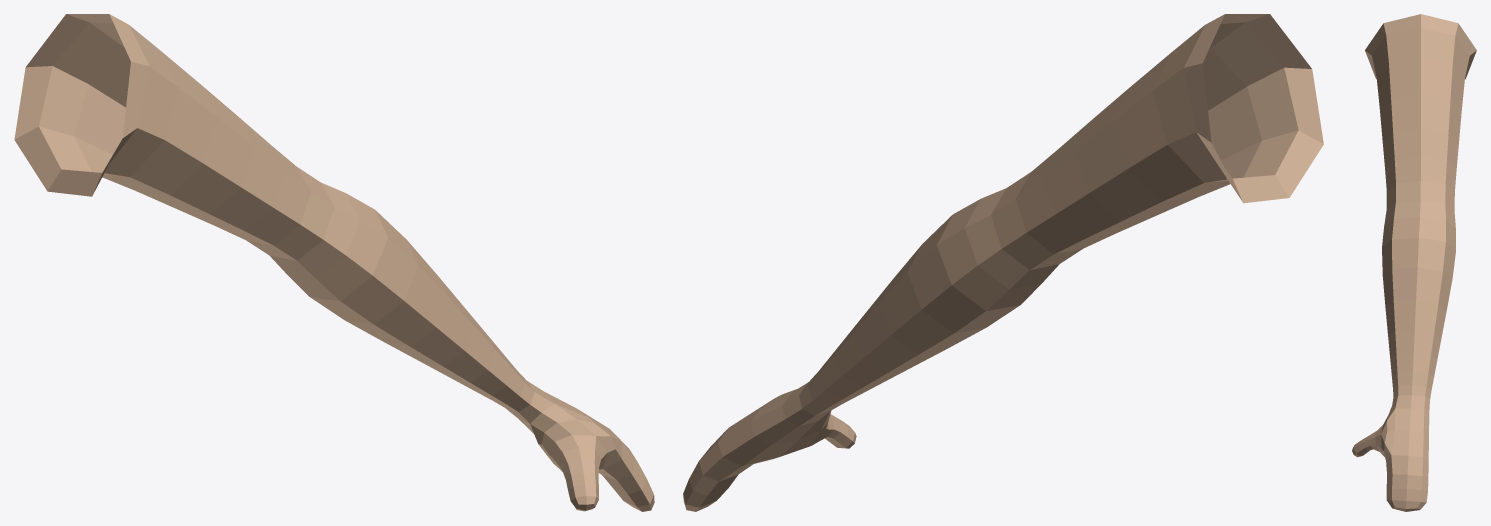
File: LeftArm.fbx
3 renders of one model, left to right at view 1: azimuth 30°, elevation 25°; view 2: azimuth 150°, elevation 25°; view 3: azimuth 270°, elevation 25°, orthographic. The views are drawn at different scales.
Visible parts, largest first — view 1: Vert.005; view 2: Vert.005; view 3: Vert.005.
Part boxes in pixels (left/top/right/bottom): Vert.005: left=14, top=14, right=654, bottom=511; Vert.005: left=683, top=14, right=1323, bottom=511; Vert.005: left=1352, top=14, right=1476, bottom=511.
Bounding box in the file's own units: 210 × 208 × 66.86.
